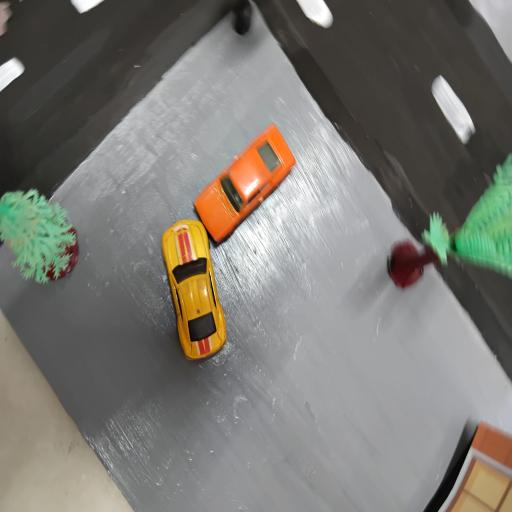car crash: (193, 122, 305, 248), (160, 218, 230, 364)
